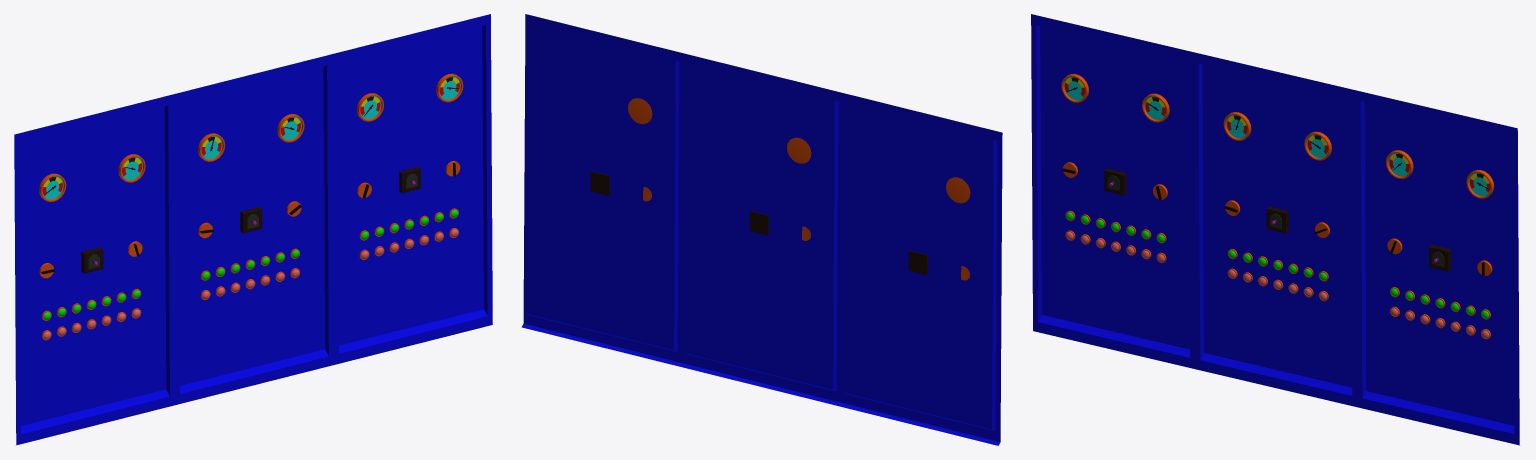
File: controlPanel.fbx
3 views of the same model, side by side, from view 1: azimuth 30°, elevation 25°; view 2: azimuth 150°, elevation 25°; view 3: azimuth 330°, elevation 25° (orthographic). The views are drawn at different scales.
Parts seen in each view (by area): view 1: controlPanel; view 2: controlPanel; view 3: controlPanel.
Part boxes in pixels (left/top/right/bottom): controlPanel: left=14, top=14, right=492, bottom=445; controlPanel: left=522, top=14, right=1002, bottom=445; controlPanel: left=1031, top=14, right=1519, bottom=445.
Bounding box in the file's own units: 1.91 × 1.2 × 0.0484.
